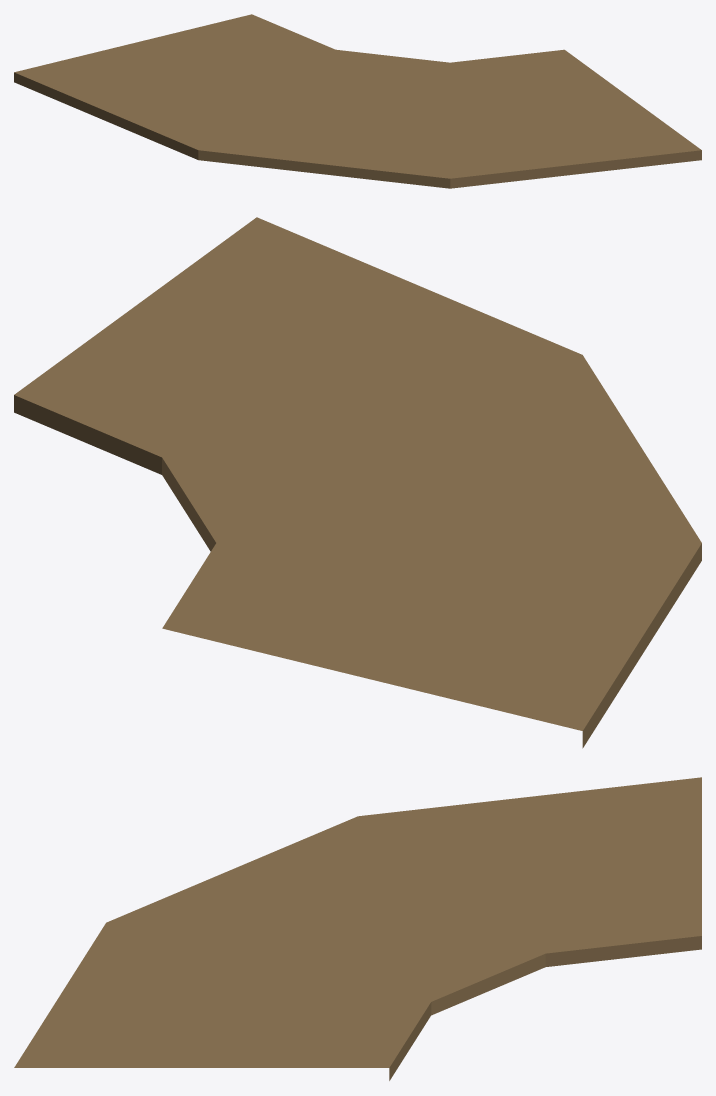
File: road_dirt_curve_lod2.glb
3 renders of one model, top to bottom at view 1: azimuth 30°, elevation 25°; view 2: azimuth 150°, elevation 25°; view 3: azimuth 270°, elevation 25°, orthographic. The views are drawn at different scales.
Visible parts, largest first — view 1: body; view 2: body; view 3: body.
Boxes of the visible parts, x1,y1,x2,y2 form: body: (14,14,701,188); body: (14,217,701,748); body: (14,777,701,1080).
Bounding box in the file's own units: 5.5 × 0.12 × 5.5.
